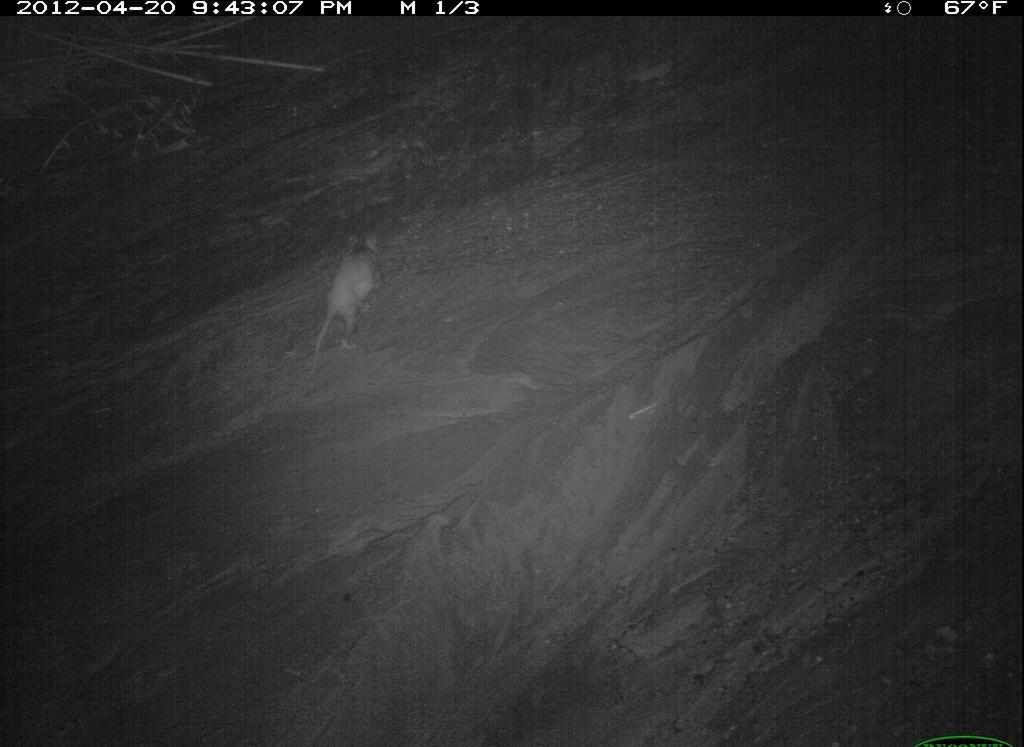opossum: (617, 461, 784, 747)
